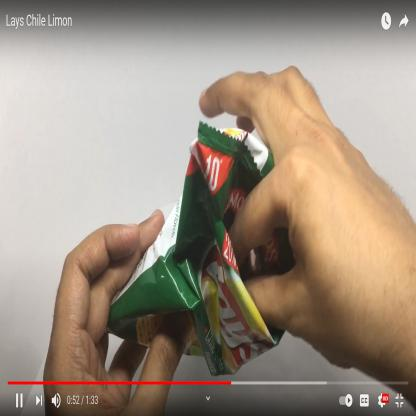chile_limon: (104, 122, 296, 376)
